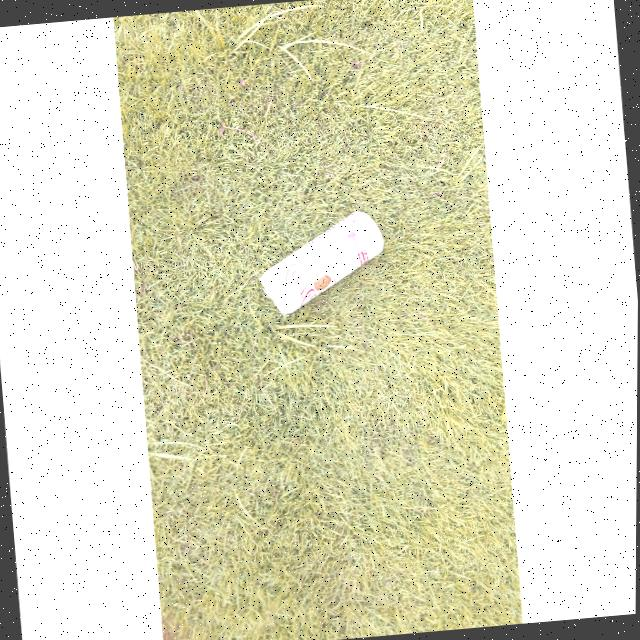Coca Cola Plus: (243, 198, 392, 328)
